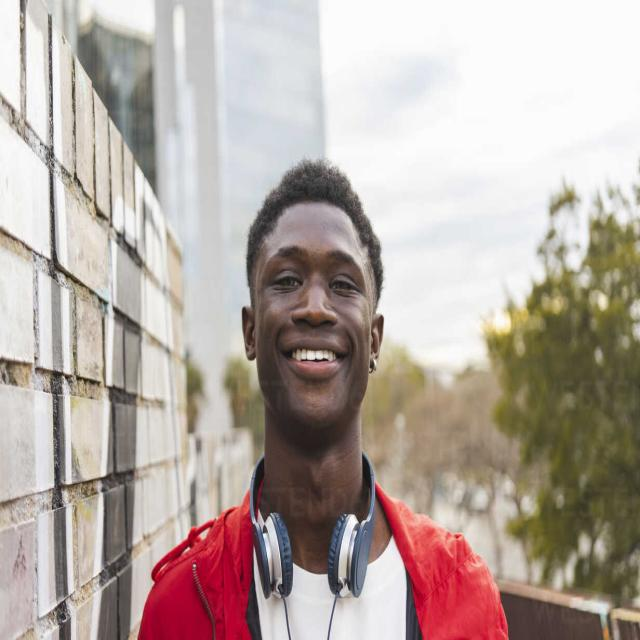sem_oculos: (241, 244, 381, 308)
